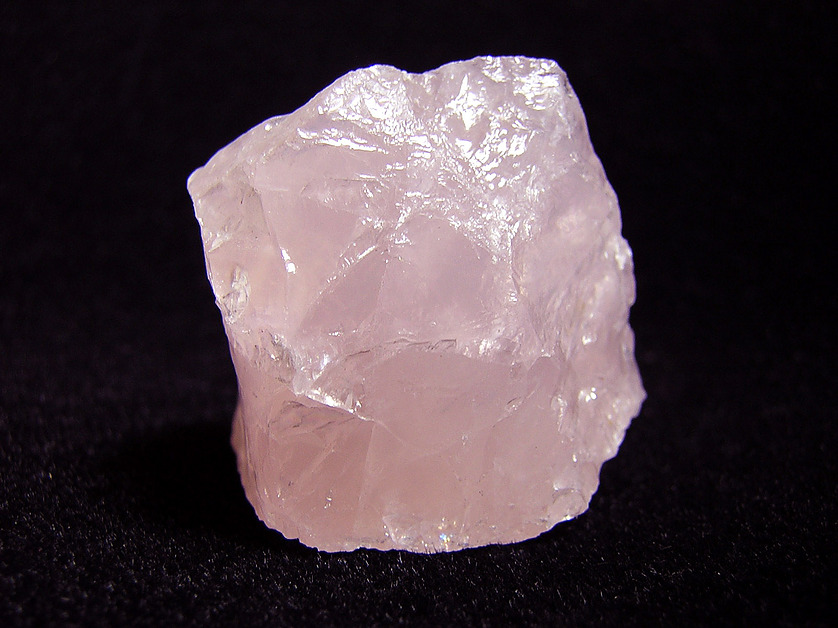Rose_Quartz: (185, 52, 651, 558)
